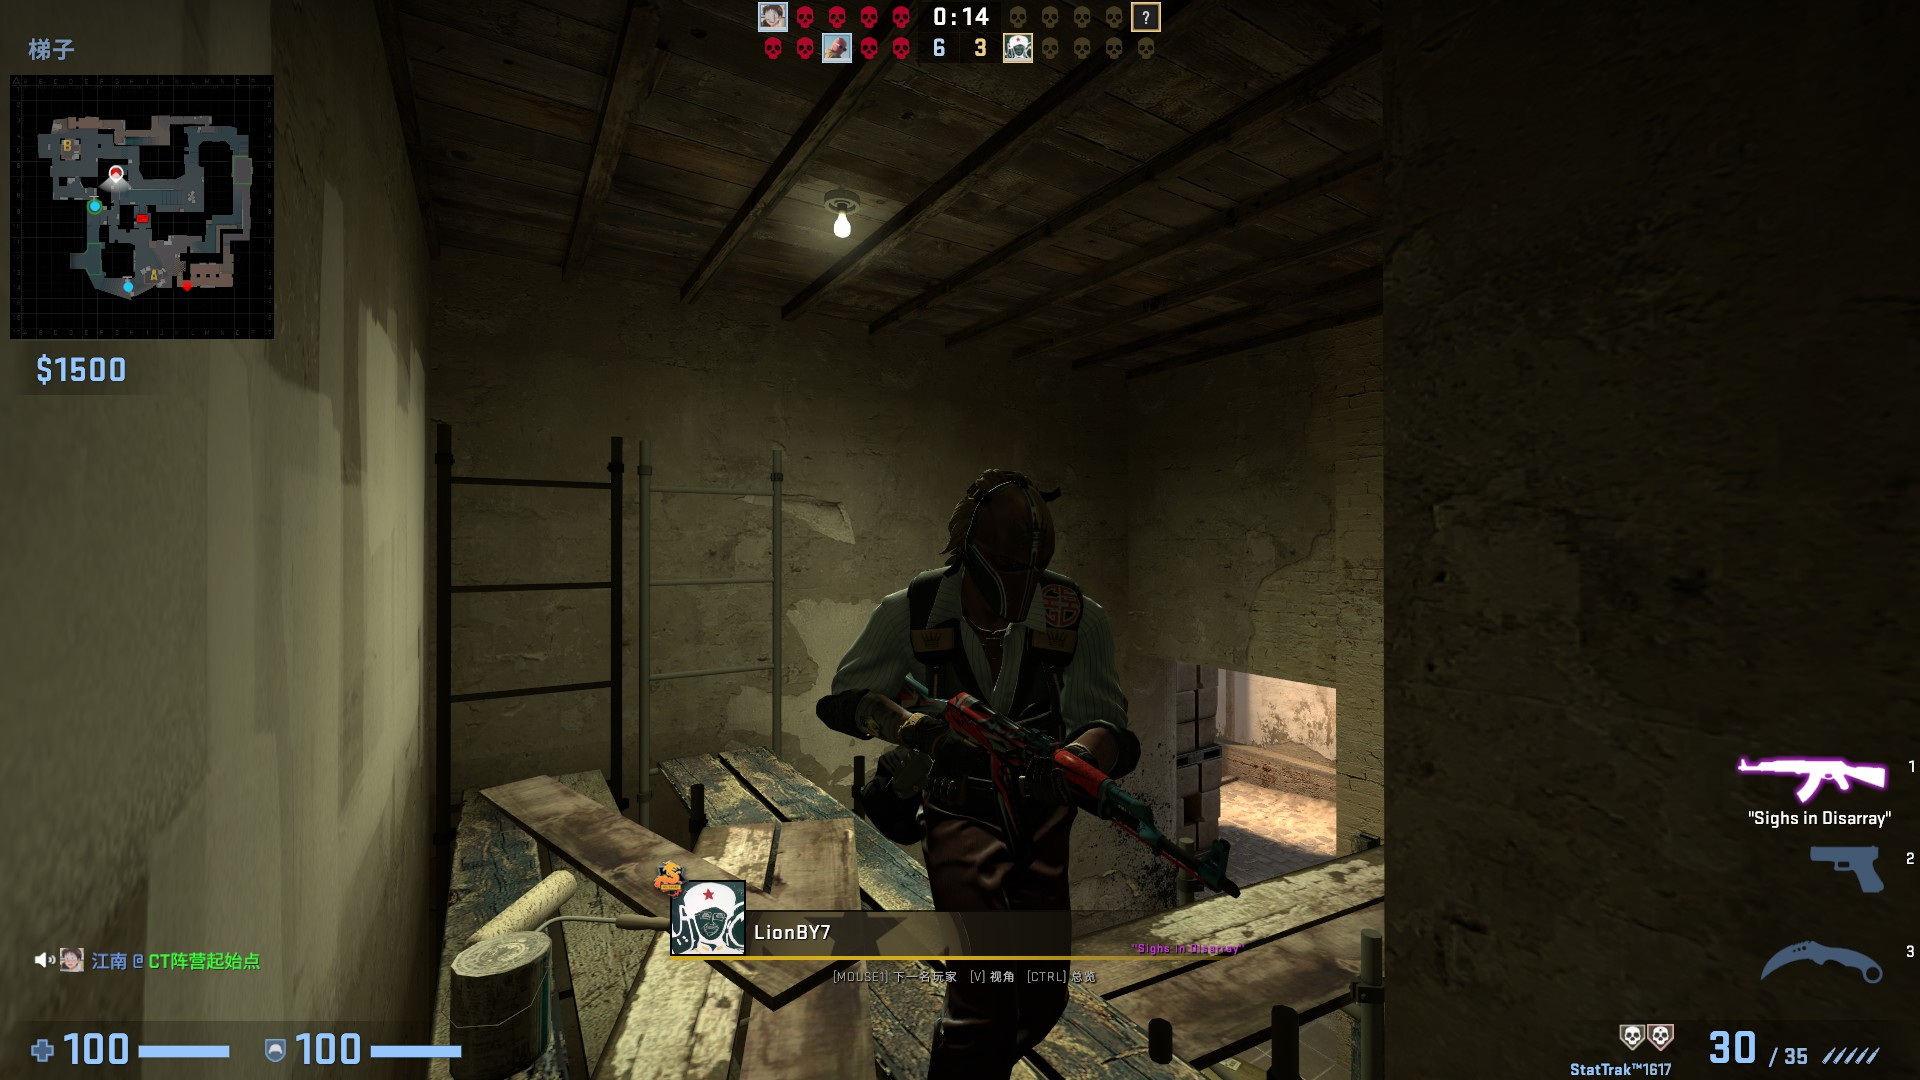head: (952, 463, 1064, 626)
